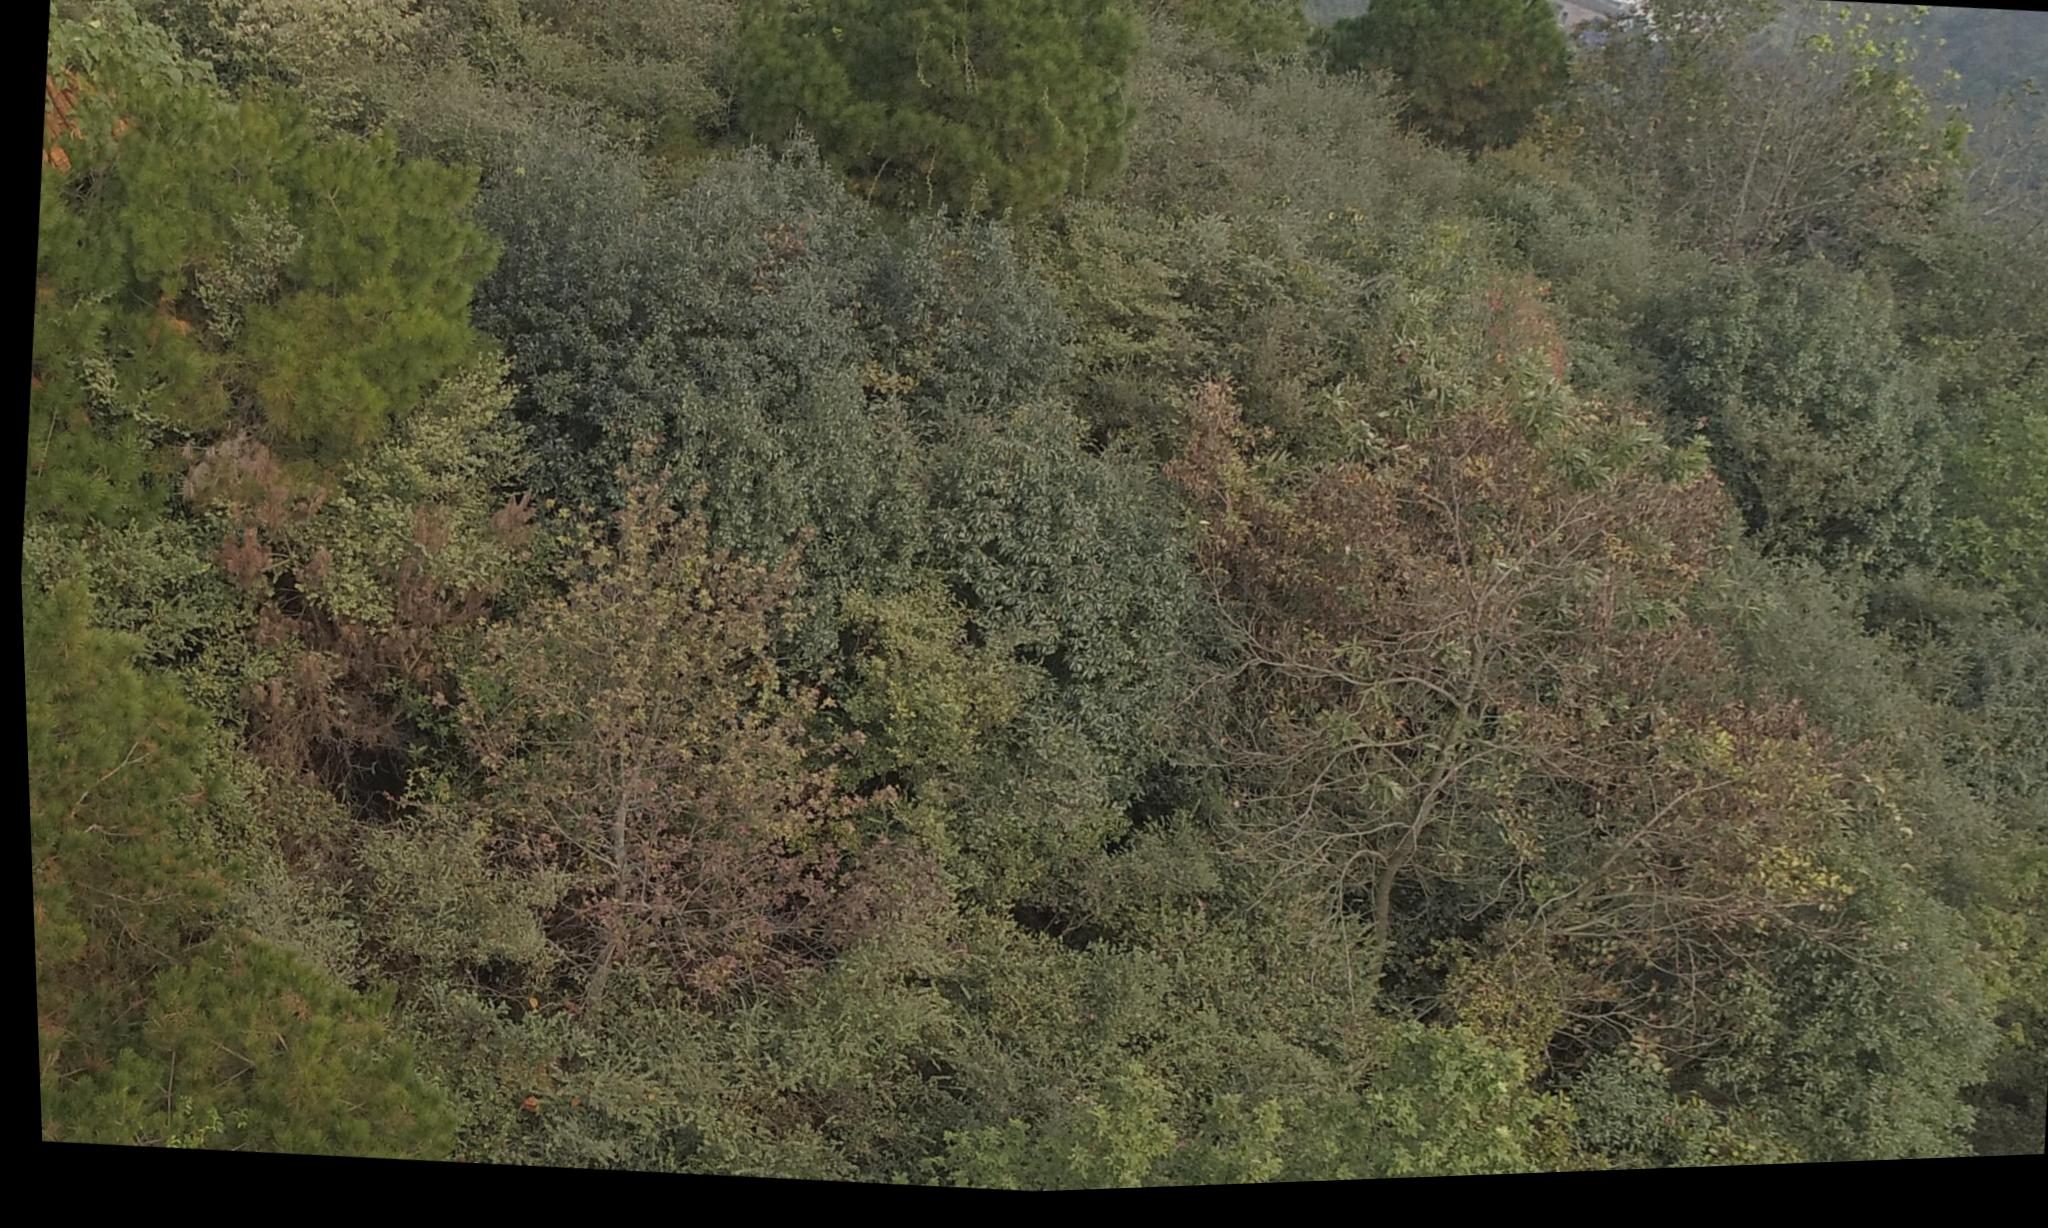light: (22, 721, 406, 1159), (19, 38, 254, 449)
